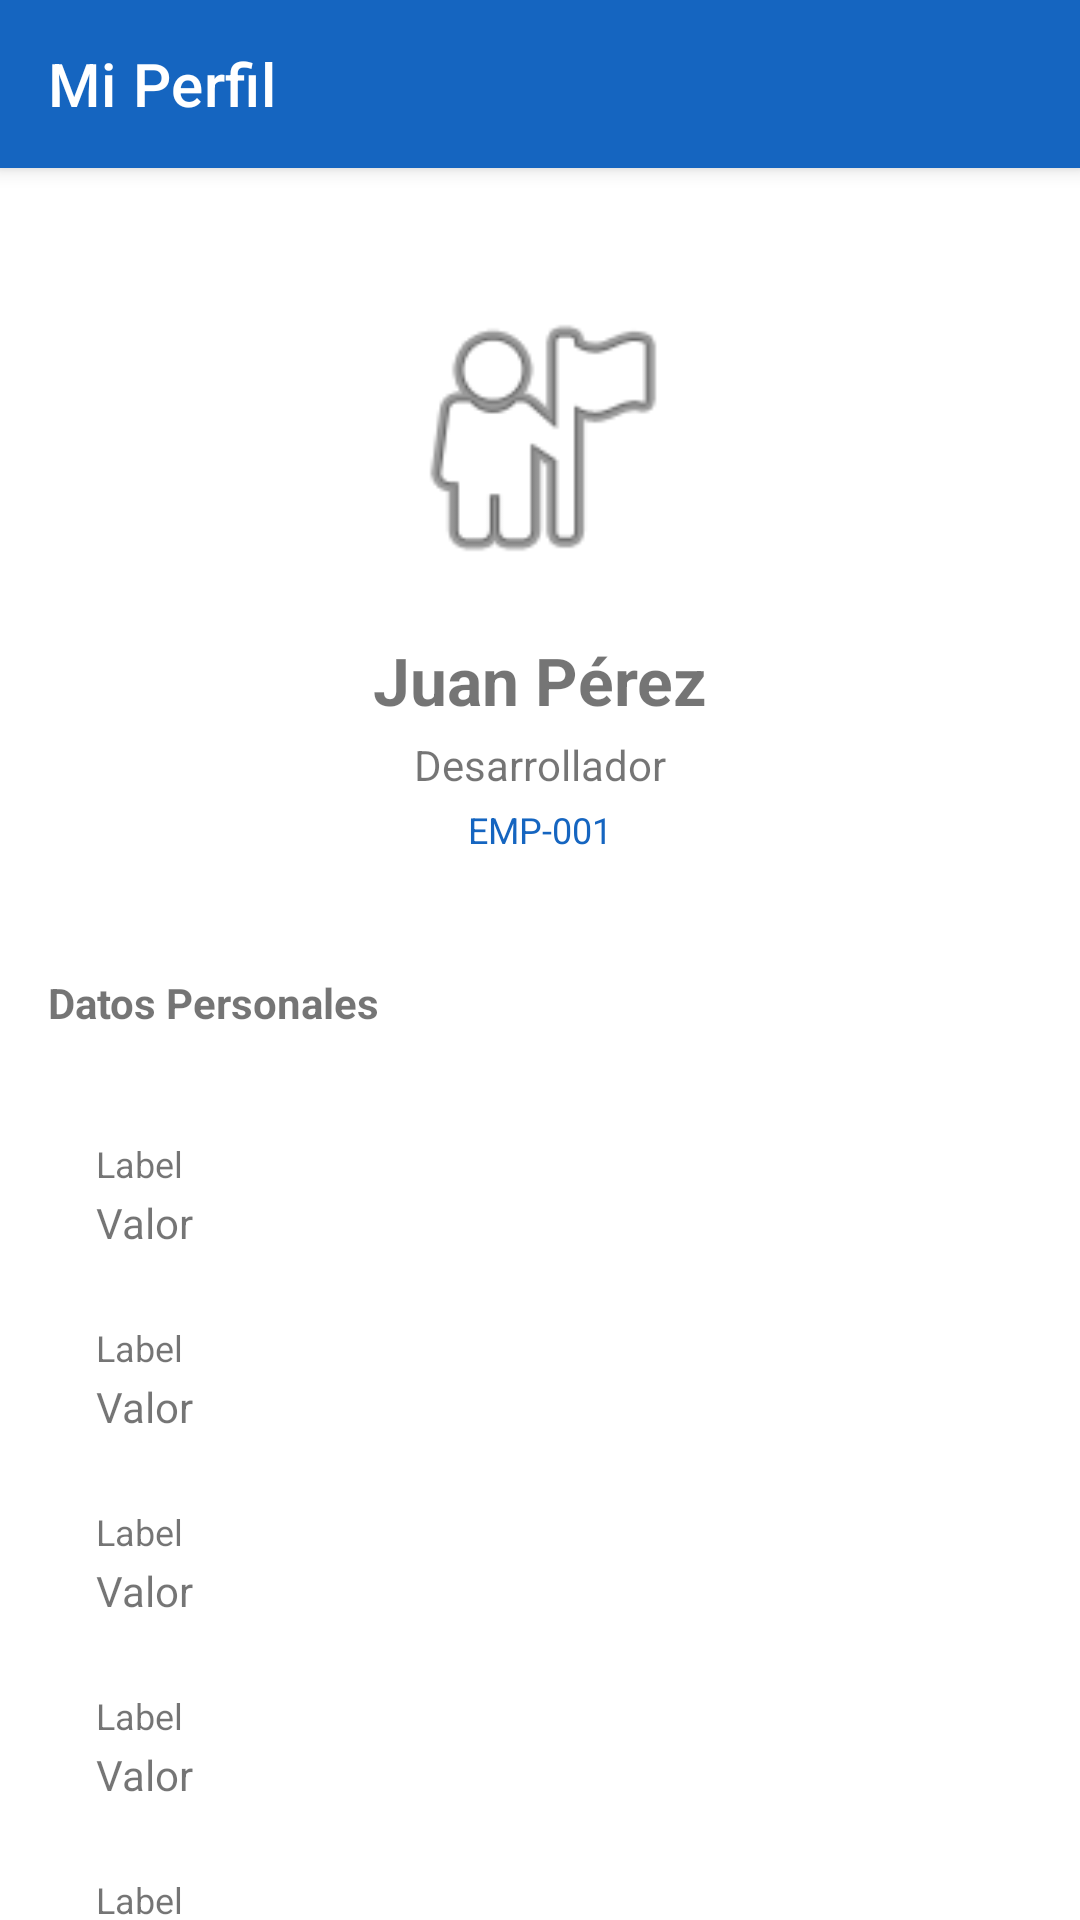

Icon bounding boxes for this 1080px x 1920px phone screenshot, format detection(x1, y1, x2, y2):
myplaces: detection(430, 326, 656, 550)
